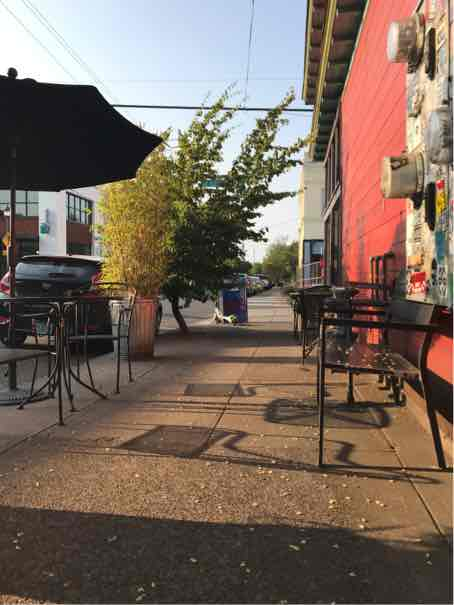scooter: (206, 292, 238, 327)
